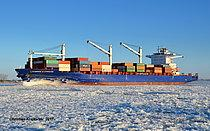Ship: (12, 37, 201, 90)
